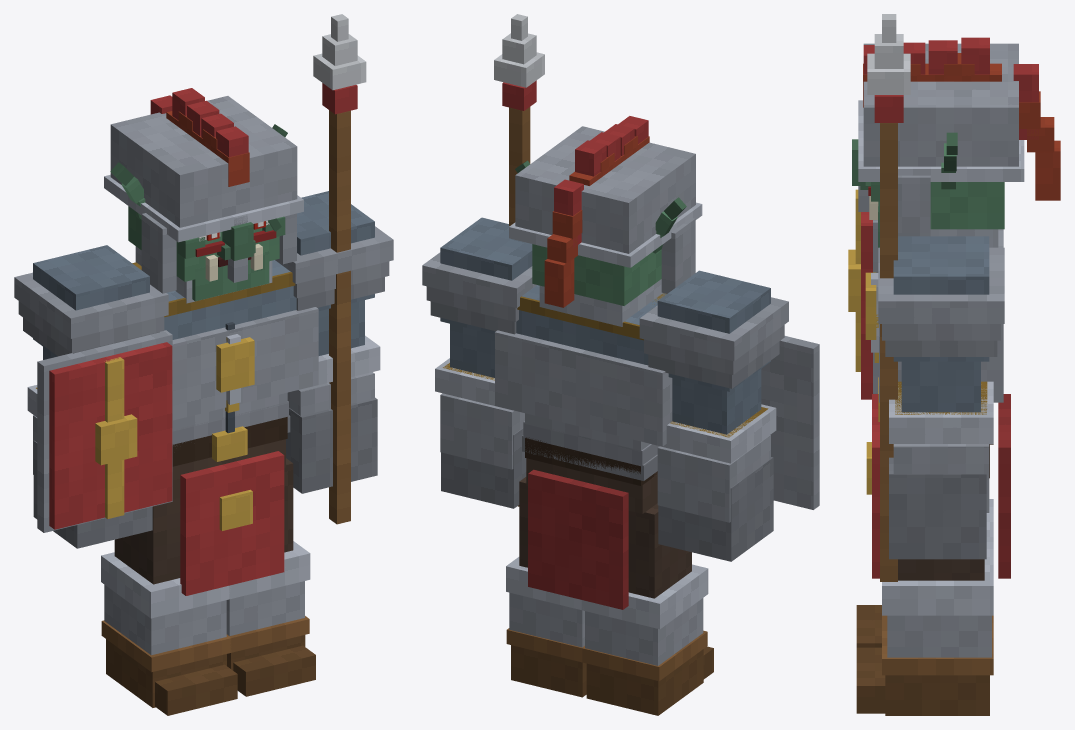
The model's file is hobgoblin_garde_v2.glb.
The picture shows the model from 3 angles, left to right: view 1: azimuth 30°, elevation 25°; view 2: azimuth 150°, elevation 25°; view 3: azimuth 270°, elevation 25°; orthographic projection. The views are drawn at different scales.
Parts seen in each view (by area): view 1: ArmR, Torso, Head, LegR, ArmL, HandL, LegL; view 2: ArmR, Torso, Head, ArmL, LegR, LegL, HandL; view 3: ArmL, Head, LegL, HandL, Torso, ArmR, LegR.
Boxes of the visible parts, x1,y1,x2,y2 form: ArmR: (14, 245, 172, 548); Torso: (132, 260, 318, 595); Head: (104, 88, 303, 303); LegR: (101, 493, 237, 715); ArmL: (275, 191, 393, 493); HandL: (313, 14, 366, 524); LegL: (226, 458, 315, 696); ArmR: (639, 270, 819, 561); Torso: (495, 285, 672, 609); Head: (509, 116, 702, 326); ArmL: (422, 217, 536, 508); LegR: (581, 503, 713, 715); LegL: (506, 477, 586, 697); HandL: (494, 14, 544, 506); ArmL: (878, 236, 1004, 559); Head: (852, 37, 1060, 247); LegL: (856, 542, 993, 715); HandL: (867, 14, 910, 581); Torso: (865, 229, 1010, 578); ArmR: (848, 189, 878, 399); LegR: (856, 499, 993, 647).
Size of the model in its own units: 1.26 by 2.2 by 0.5875.
42 materials, 42 textured.
